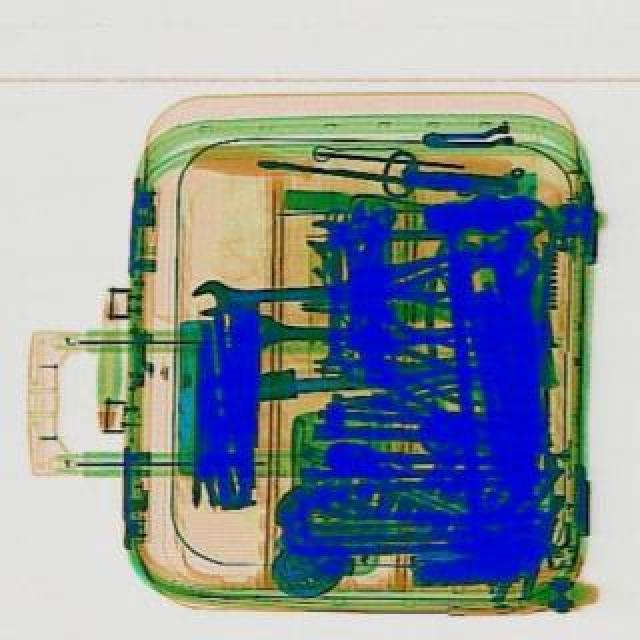scissors: (188, 274, 328, 316), (304, 218, 412, 254)
